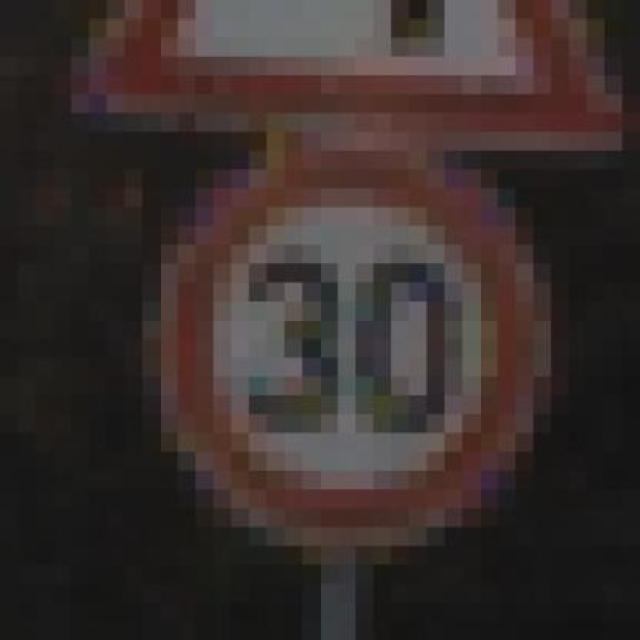forb_speed_over_30: (163, 145, 529, 538)
